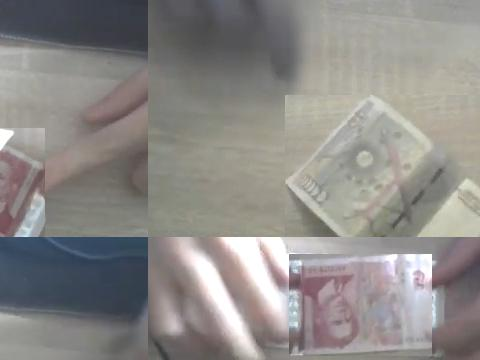10leva: (285, 95, 480, 237)
5leva: (289, 254, 432, 356), (0, 129, 45, 237)
